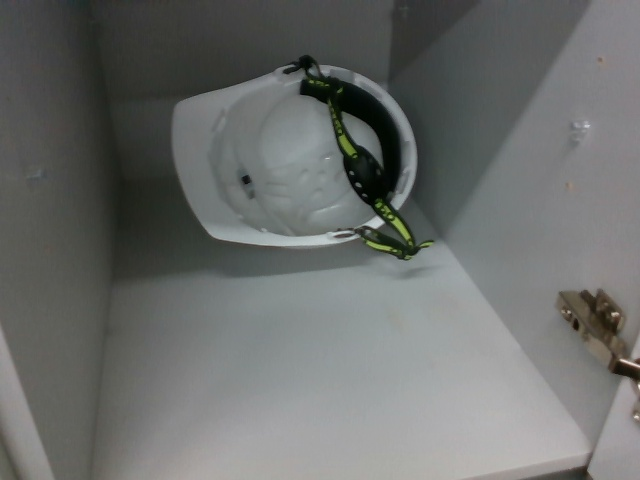helmet: (166, 58, 421, 251)
